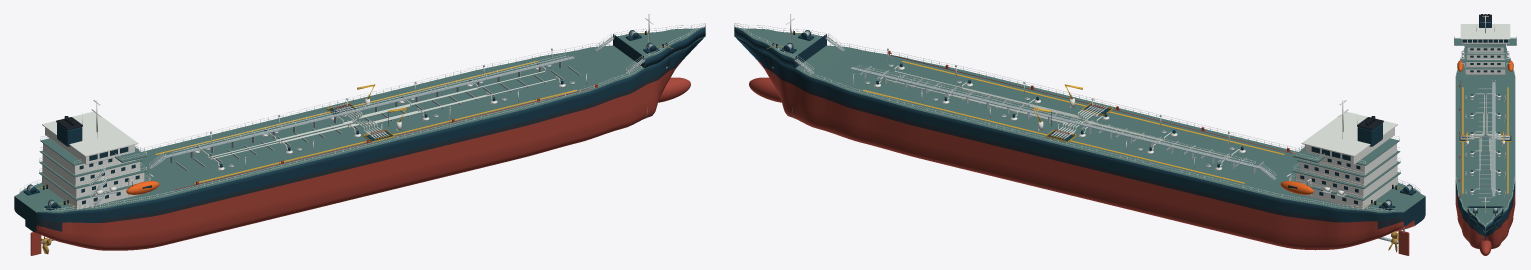
Rendered from damage_tanker.glb.
The picture shows the model from 3 angles, left to right: view 1: azimuth 30°, elevation 25°; view 2: azimuth 150°, elevation 25°; view 3: azimuth 270°, elevation 25°; orthographic projection. The views are drawn at different scales.
Visible parts, largest first — view 1: Hull_near_structure, Decks_far_cover, Accommodation_far_structure, Railings_far_structure, Piping_far_structure, Walkway_far_structure, Markings_far_cover, Walkway_far_cover, Hull_far_structure, PipeSupports_far_structure, Stairs_far_structure, Funnel_far_structure (+6 smaller); view 2: Hull_far_structure, Decks_far_cover, Accommodation_far_structure, Railings_far_structure, Piping_far_structure, Walkway_far_structure, Markings_far_cover, Walkway_far_cover, Funnel_far_structure, Mooring_far_structure, FireSystem_far_structure, Windows_far_structure (+6 smaller); view 3: Decks_far_cover, Accommodation_far_structure, Hull_far_structure, Hull_near_structure, Piping_far_structure, PipeSupports_far_structure, Markings_far_cover, Windows_far_structure, Walkway_far_cover, Railings_far_structure, Survival_far_structure, Walkway_far_structure (+9 smaller).
Part boxes in pixels (box(x1,y1,x2,y2)): Hull_near_structure: box(35, 27, 705, 250); Decks_far_cover: box(14, 27, 705, 212); Accommodation_far_structure: box(39, 111, 148, 209); Railings_far_structure: box(19, 23, 705, 212); Piping_far_structure: box(198, 66, 560, 166); Walkway_far_structure: box(170, 54, 568, 163); Markings_far_cover: box(155, 61, 576, 183); Walkway_far_cover: box(164, 56, 574, 157); Hull_far_structure: box(14, 27, 704, 232); PipeSupports_far_structure: box(176, 66, 580, 171); Stairs_far_structure: box(89, 33, 645, 207); Funnel_far_structure: box(56, 116, 82, 146); Hull_far_structure: box(734, 27, 1425, 250); Decks_far_cover: box(734, 27, 1425, 212); Accommodation_far_structure: box(1291, 111, 1400, 209); Railings_far_structure: box(734, 23, 1420, 212); Piping_far_structure: box(879, 65, 1241, 166); Walkway_far_structure: box(857, 64, 1255, 174); Markings_far_cover: box(863, 61, 1284, 183); Walkway_far_cover: box(850, 67, 1261, 168); Funnel_far_structure: box(1357, 116, 1383, 146); Mooring_far_structure: box(767, 30, 1416, 210); FireSystem_far_structure: box(888, 50, 1295, 154); Windows_far_structure: box(1300, 147, 1360, 204); Decks_far_cover: box(1455, 58, 1515, 233); Accommodation_far_structure: box(1454, 24, 1516, 74); Hull_far_structure: box(1479, 180, 1515, 255); Hull_near_structure: box(1455, 180, 1485, 248); Piping_far_structure: box(1461, 93, 1509, 190); PipeSupports_far_structure: box(1478, 88, 1492, 198); Markings_far_cover: box(1462, 87, 1508, 193); Windows_far_structure: box(1462, 39, 1508, 72); Walkway_far_cover: box(1492, 82, 1495, 196); Railings_far_structure: box(1454, 36, 1516, 226); Survival_far_structure: box(1457, 51, 1513, 75); Walkway_far_structure: box(1492, 82, 1495, 196).
Bounding box in the file's own units: 199 × 39.42 × 27.88.
